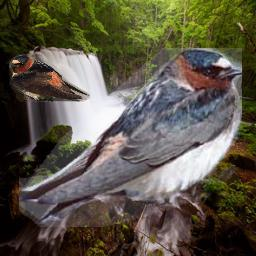Swallow: (19, 48, 242, 227), (9, 54, 90, 102)
